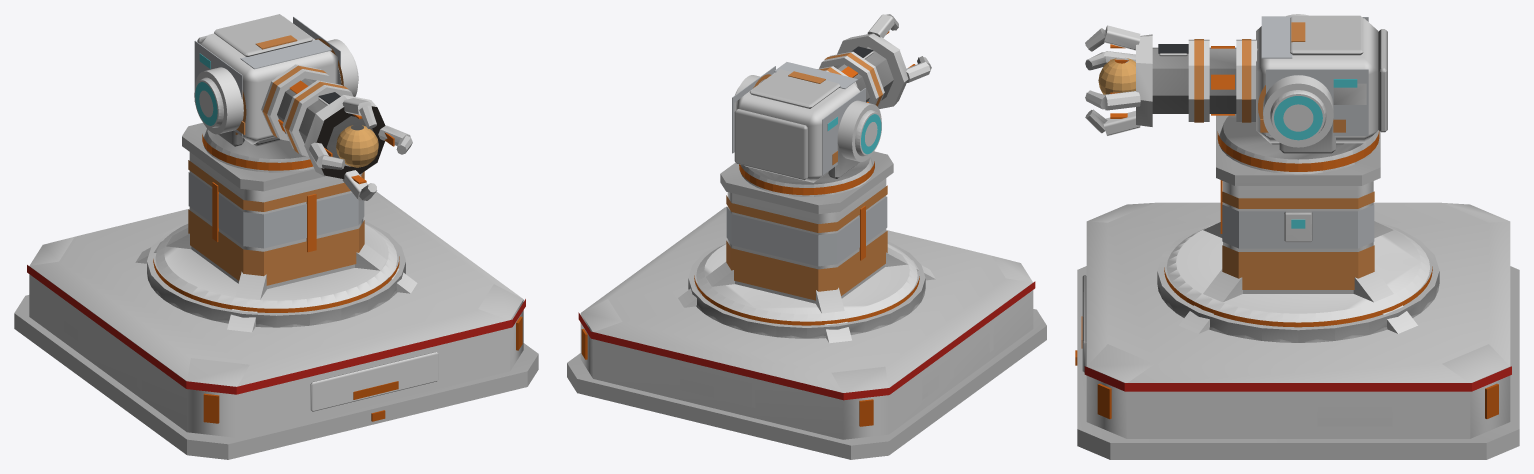
The model's file is fire_0.glb.
The picture shows the model from 3 angles, left to right: view 1: azimuth 30°, elevation 25°; view 2: azimuth 150°, elevation 25°; view 3: azimuth 270°, elevation 25°; orthographic projection. The views are drawn at different scales.
Parts seen in each view (by area): view 1: Rumpf, Werfer, Gelenk, Drehteller, Kern; view 2: Rumpf, Werfer, Drehteller, Gelenk; view 3: Rumpf, Werfer, Drehteller, Gelenk, Kern, Ladung.
Boxes of the visible parts, <box> form: Rumpf: <box>14,123,538,459</box>; Werfer: <box>194,14,412,200</box>; Gelenk: <box>194,38,358,134</box>; Drehteller: <box>202,128,313,172</box>; Kern: <box>336,125,378,167</box>; Rumpf: <box>567,151,1046,459</box>; Werfer: <box>732,14,931,182</box>; Drehteller: <box>739,144,874,196</box>; Gelenk: <box>735,74,881,161</box>; Rumpf: <box>1075,115,1519,459</box>; Werfer: <box>1085,15,1387,143</box>; Drehteller: <box>1217,114,1379,174</box>; Gelenk: <box>1258,14,1333,147</box>; Kern: <box>1098,58,1135,94</box>; Ladung: <box>1110,44,1234,118</box>.
Bounding box in the file's own units: 0.94 × 0.7944 × 0.944.
